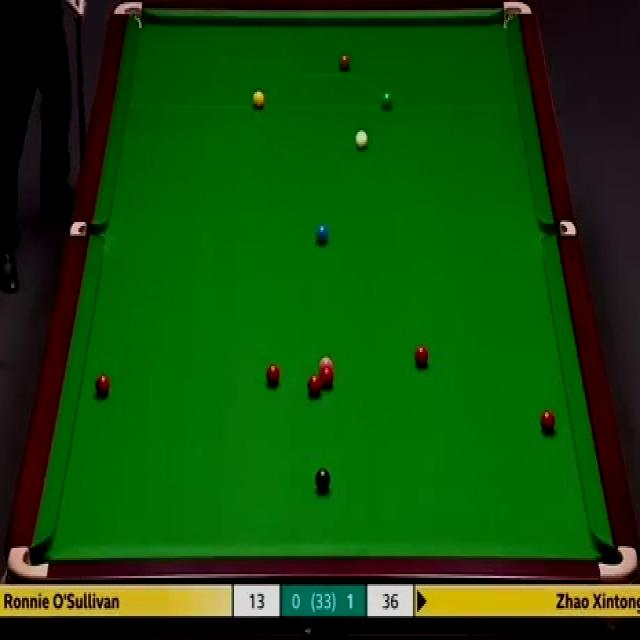pocket: (596, 543, 640, 585), (5, 543, 50, 582), (111, 0, 144, 31), (502, 0, 532, 29), (71, 218, 104, 238), (540, 221, 575, 237)
